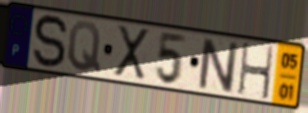5: (155, 30, 188, 87)
H: (236, 41, 276, 102)
N: (197, 35, 239, 95)
Q: (66, 19, 102, 75)
S: (31, 13, 70, 71)
X: (113, 24, 151, 82)
